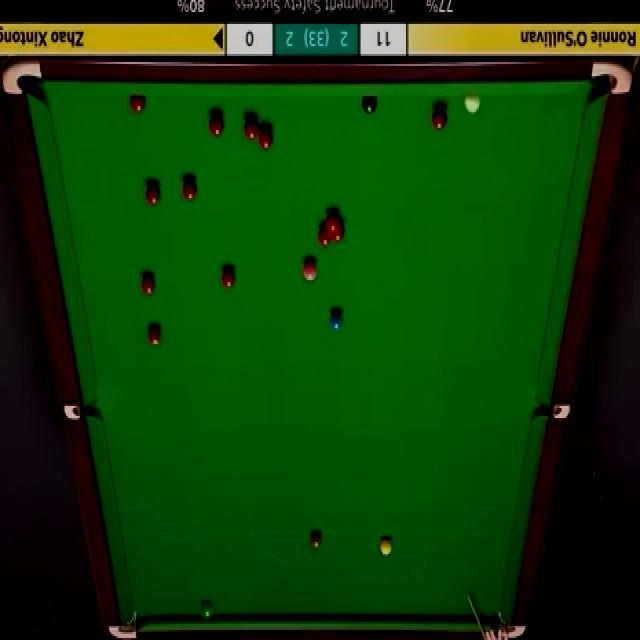black-ball: (360, 94, 378, 115)
blue-ball: (328, 311, 344, 332)
brown-ball: (310, 532, 322, 552)
green-ball: (201, 600, 214, 618)
pink-ball: (301, 256, 318, 281)
red-ball: (180, 176, 198, 202), (243, 114, 259, 143), (432, 105, 449, 132), (146, 321, 162, 349), (208, 110, 225, 136), (220, 265, 236, 291), (258, 124, 274, 150), (144, 182, 160, 206), (142, 271, 156, 296), (332, 218, 346, 242), (318, 222, 331, 246), (129, 97, 147, 114), (324, 210, 340, 229)
white-ball: (463, 95, 481, 116)
yellow-ball: (381, 538, 393, 554)
